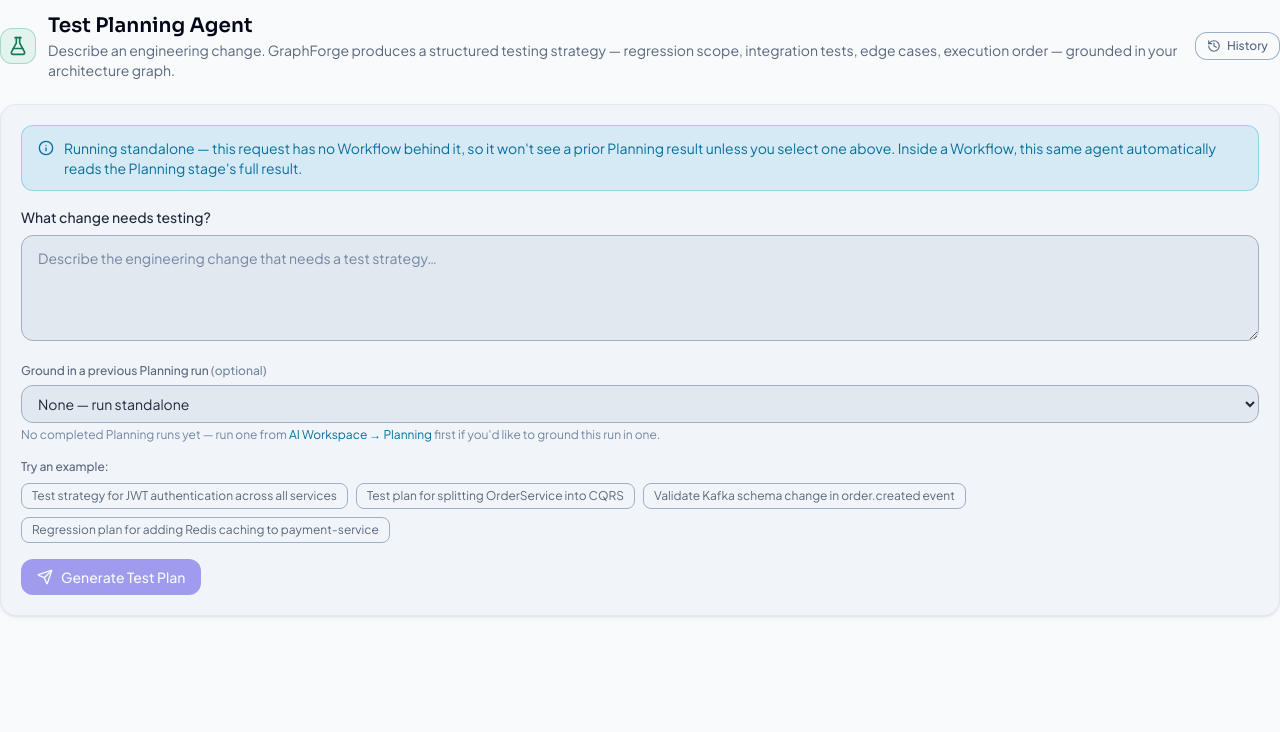
Test case: TestingPage › fills textarea when example is clicked
Click the button "Test strategy for JWT authentication across all services": (184, 496) [21,483,348,509]
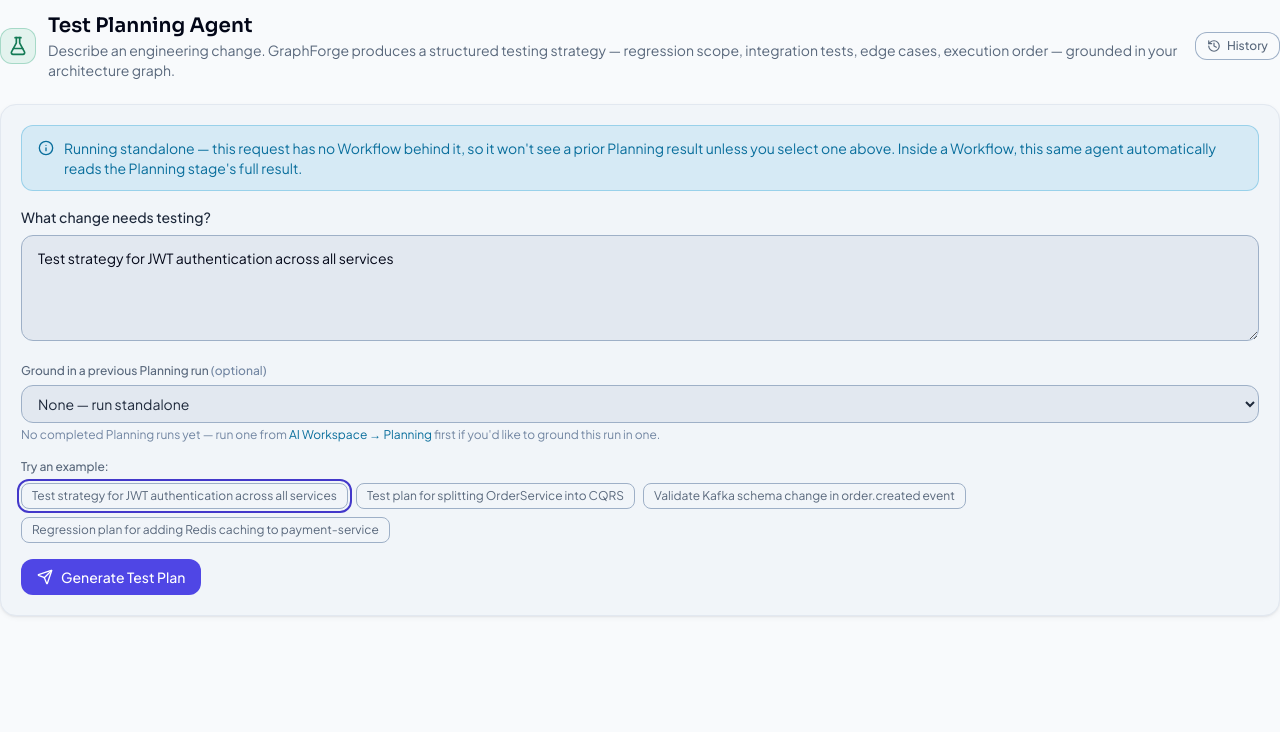
Expected: the text box labelled "What change needs testing?" holds "Test strategy for JWT authentication across all services", [21,235,1259,341]
